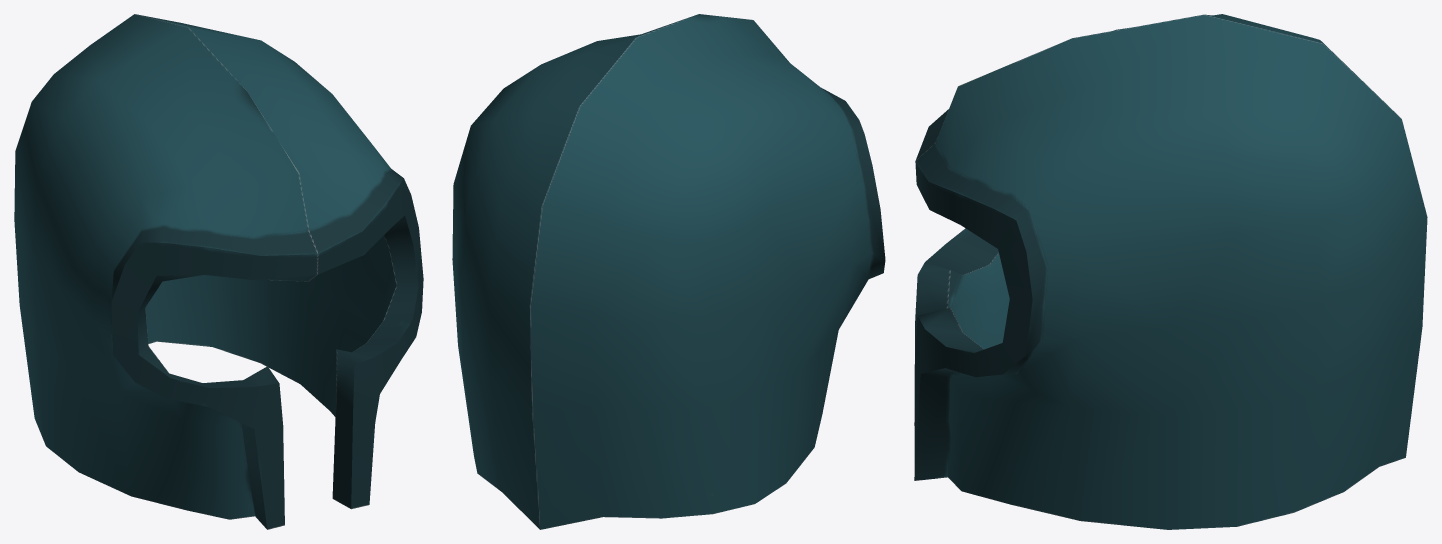
File: HelmetVar4.fbx
3 views of the same model, side by side, from view 1: azimuth 30°, elevation 25°; view 2: azimuth 150°, elevation 25°; view 3: azimuth 270°, elevation 25° (orthographic). The views are drawn at different scales.
Parts seen in each view (by area): view 1: HelmetVar4; view 2: HelmetVar4; view 3: HelmetVar4.
Boxes of the visible parts, <box> form: HelmetVar4: <box>14,14,423,529</box>; HelmetVar4: <box>452,14,885,529</box>; HelmetVar4: <box>914,14,1427,529</box>.
Size of the model in its own units: 27.69 by 34.28 by 35.63.
